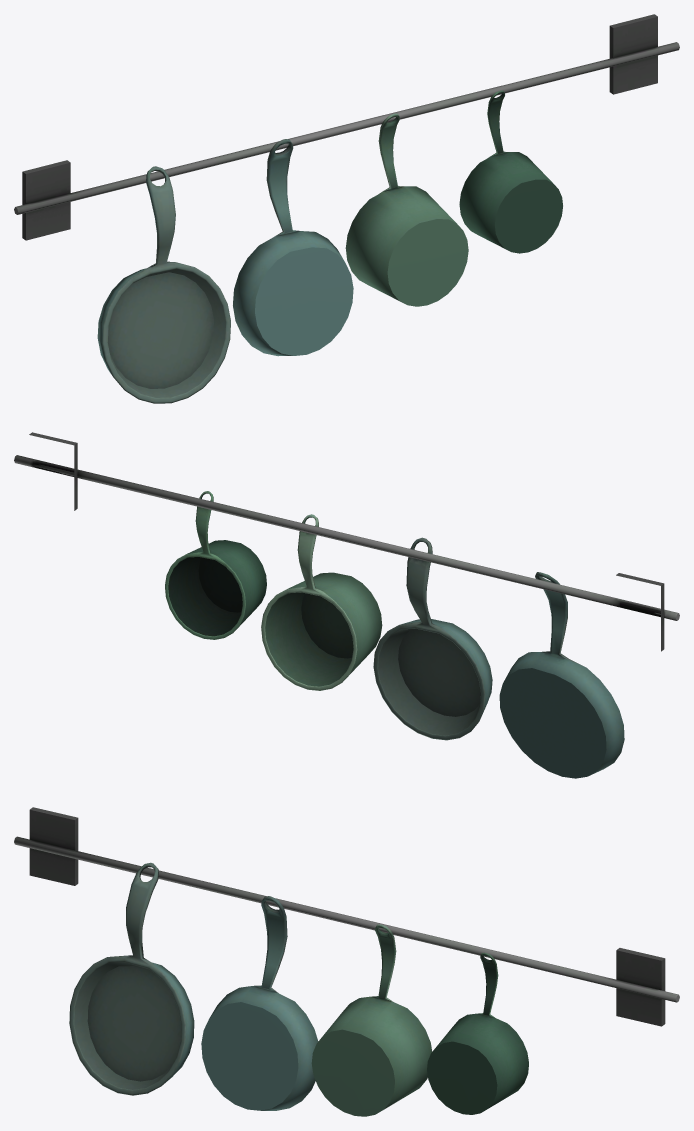
File: pan_rack.glb
3 renders of one model, top to bottom at view 1: azimuth 30°, elevation 25°; view 2: azimuth 150°, elevation 25°; view 3: azimuth 330°, elevation 25°, orthographic.
Parts seen in each view (by area): view 1: Pan_1.smd, Pan_2.smd, Sauce_pan_1.smd, fc_pan_rack.smd, Sauce_pan_2.smd; view 2: Pan_1.smd, Pan_2.smd, Sauce_pan_1.smd, Sauce_pan_2.smd, fc_pan_rack.smd; view 3: Pan_1.smd, Pan_2.smd, fc_pan_rack.smd, Sauce_pan_1.smd, Sauce_pan_2.smd.
Boxes of the visible parts, box(x1,y1,x2,y2) form: Pan_1.smd: box(97, 166, 230, 403); Pan_2.smd: box(233, 139, 353, 356); Sauce_pan_1.smd: box(345, 113, 468, 306); fc_pan_rack.smd: box(14, 14, 679, 240); Sauce_pan_2.smd: box(459, 90, 562, 253); Pan_1.smd: box(499, 572, 624, 778); Pan_2.smd: box(373, 537, 492, 740); Sauce_pan_1.smd: box(261, 514, 382, 690); Sauce_pan_2.smd: box(165, 491, 266, 639); fc_pan_rack.smd: box(14, 432, 679, 651); Pan_1.smd: box(69, 862, 194, 1095); Pan_2.smd: box(201, 896, 318, 1110); fc_pan_rack.smd: box(14, 807, 679, 1026); Sauce_pan_1.smd: box(311, 924, 432, 1116); Sauce_pan_2.smd: box(427, 952, 528, 1114).
Bounding box in the file's own units: 1.71 × 0.5818 × 0.2022.
5 materials, 5 textured.
